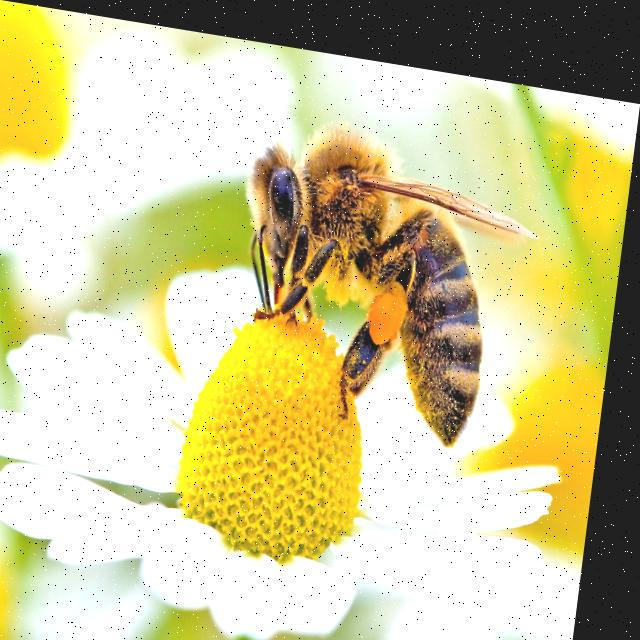Allodapula: (218, 92, 556, 451)
